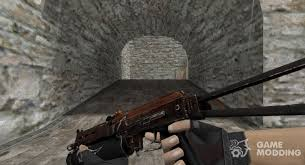gun: (66, 57, 303, 159)
